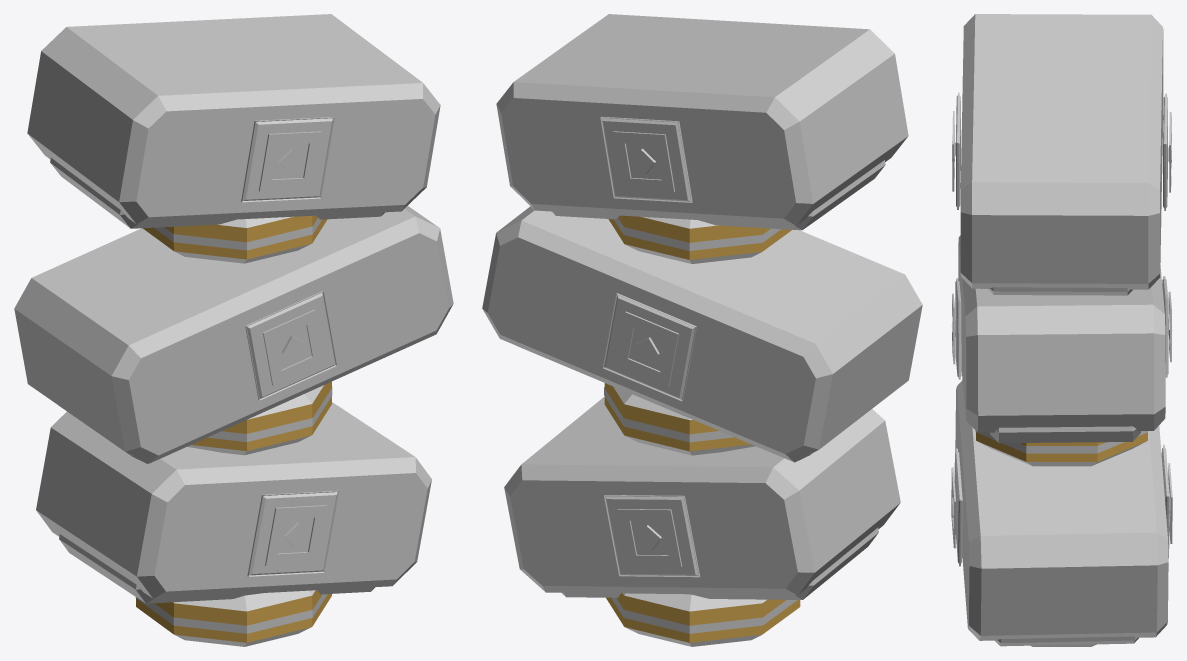
Rendered from wand_motion_10.obj.
The picture shows the model from 3 angles, left to right: view 1: azimuth 30°, elevation 25°; view 2: azimuth 150°, elevation 25°; view 3: azimuth 270°, elevation 25°; orthographic projection. The views are drawn at different scales.
Parts seen in each view (by area): view 1: chamfered_seal_tablet_2, chamfered_seal_tablet_1, chamfered_seal_tablet_0, tablet_spacer_0, tablet_spacer_2, inset_rune_socket_5, inset_rune_socket_3, inset_rune_socket_1, tablet_spacer_1, seal_shadow_base_0, seal_shadow_base_2, tablet_spacer_dark_seam_0 (+2 smaller); view 2: chamfered_seal_tablet_2, chamfered_seal_tablet_1, chamfered_seal_tablet_0, tablet_spacer_0, tablet_spacer_2, inset_rune_socket_0, inset_rune_socket_2, inset_rune_socket_4, tablet_spacer_1, seal_shadow_base_2, seal_shadow_base_0, tablet_spacer_dark_seam_0 (+2 smaller); view 3: chamfered_seal_tablet_2, chamfered_seal_tablet_0, chamfered_seal_tablet_1, seal_shadow_base_1, tablet_spacer_1, seal_shadow_base_2, seal_shadow_base_0, tablet_spacer_dark_seam_1, inset_rune_socket_1, inset_rune_socket_3, inset_rune_socket_4, inset_rune_socket_5 (+2 smaller).
Boxes of the visible parts, x1=… form: chamfered_seal_tablet_2: x1=27, y1=14, x2=440, y2=224; chamfered_seal_tablet_1: x1=14, y1=206, x2=453, y2=463; chamfered_seal_tablet_0: x1=36, y1=402, x2=431, y2=598; tablet_spacer_0: x1=136, y1=590, x2=331, y2=646; tablet_spacer_2: x1=143, y1=215, x2=327, y2=263; inset_rune_socket_5: x1=241, y1=117, x2=334, y2=202; inset_rune_socket_3: x1=245, y1=291, x2=336, y2=400; inset_rune_socket_1: x1=247, y1=490, x2=338, y2=576; tablet_spacer_1: x1=187, y1=381, x2=331, y2=455; seal_shadow_base_0: x1=59, y1=534, x2=374, y2=603; seal_shadow_base_2: x1=50, y1=158, x2=384, y2=228; tablet_spacer_dark_seam_0: x1=135, y1=594, x2=327, y2=633; chamfered_seal_tablet_2: x1=496, y1=14, x2=908, y2=225; chamfered_seal_tablet_1: x1=482, y1=206, x2=922, y2=461; chamfered_seal_tablet_0: x1=504, y1=396, x2=900, y2=595; tablet_spacer_0: x1=606, y1=593, x2=800, y2=646; tablet_spacer_2: x1=608, y1=215, x2=792, y2=263; inset_rune_socket_0: x1=604, y1=495, x2=700, y2=577; inset_rune_socket_2: x1=603, y1=293, x2=696, y2=401; inset_rune_socket_4: x1=600, y1=116, x2=692, y2=202; tablet_spacer_1: x1=604, y1=383, x2=755, y2=455; seal_shadow_base_2: x1=552, y1=160, x2=885, y2=230; seal_shadow_base_0: x1=561, y1=527, x2=878, y2=599; tablet_spacer_dark_seam_0: x1=611, y1=597, x2=797, y2=633; chamfered_seal_tablet_2: x1=960, y1=14, x2=1163, y2=289; chamfered_seal_tablet_0: x1=955, y1=380, x2=1168, y2=640; chamfered_seal_tablet_1: x1=958, y1=235, x2=1165, y2=432; seal_shadow_base_1: x1=990, y1=426, x2=1140, y2=443; tablet_spacer_1: x1=976, y1=432, x2=1147, y2=466; seal_shadow_base_2: x1=988, y1=287, x2=1132, y2=295; seal_shadow_base_0: x1=995, y1=636, x2=1138, y2=646; tablet_spacer_dark_seam_1: x1=975, y1=431, x2=1148, y2=453; inset_rune_socket_1: x1=954, y1=448, x2=962, y2=566; inset_rune_socket_3: x1=955, y1=278, x2=961, y2=379; inset_rune_socket_4: x1=1163, y1=93, x2=1168, y2=210; inset_rune_socket_5: x1=955, y1=92, x2=960, y2=209.
Size of the model in its own units: 0.1973 by 0.3125 by 0.1146.
